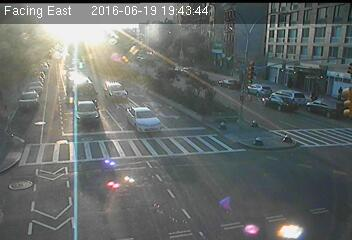neg: (245, 100, 274, 138), (59, 105, 85, 139), (213, 190, 237, 223), (64, 150, 87, 180), (161, 50, 182, 78), (68, 58, 88, 85), (100, 44, 120, 70), (122, 32, 142, 58), (97, 171, 116, 196), (63, 207, 81, 231), (242, 215, 259, 237), (117, 162, 132, 183), (285, 214, 300, 234), (211, 78, 224, 95), (100, 154, 110, 167)
pos: (334, 83, 349, 103)
